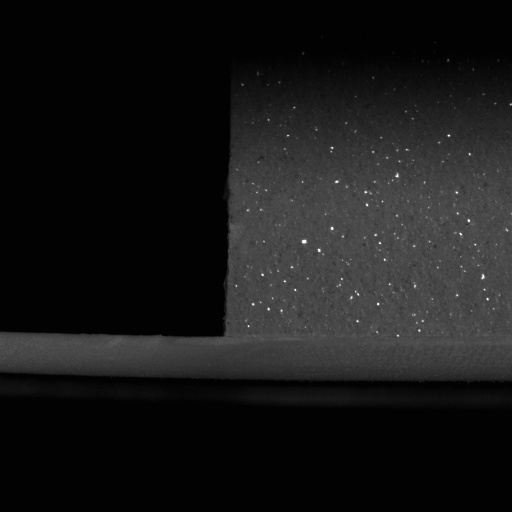changdai: (0, 330, 223, 380)
